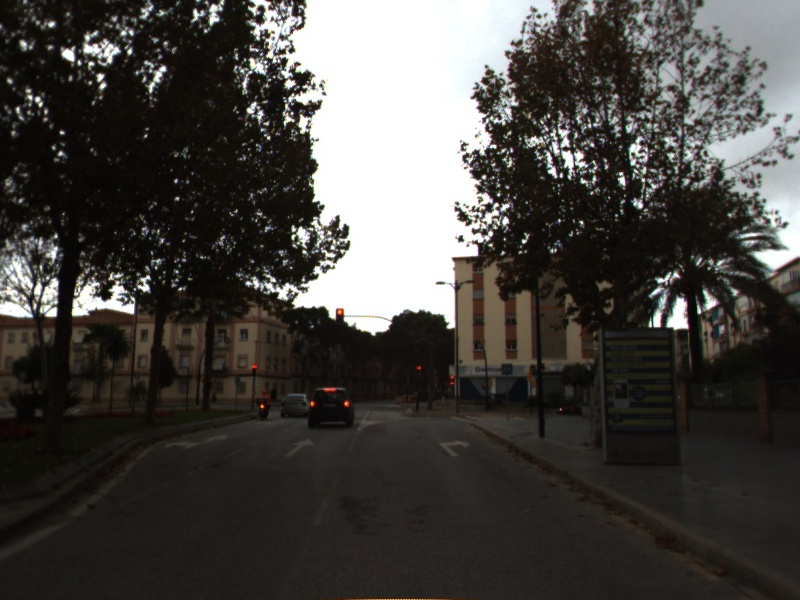RIGHT: (436, 437, 473, 460)
STRAIGHT: (282, 436, 317, 460)
STRAIGHT_LEFT: (161, 430, 232, 452)
